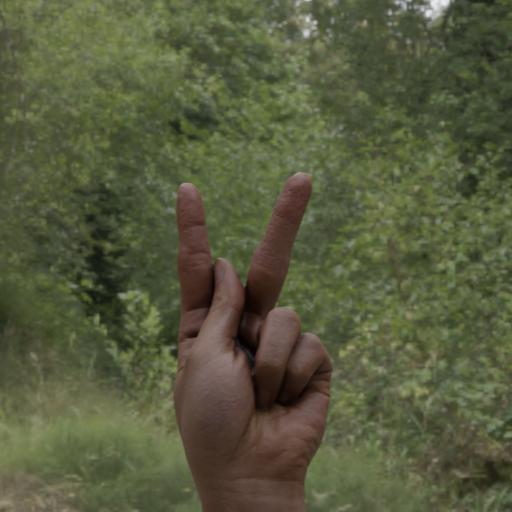K: (172, 167, 334, 478)
